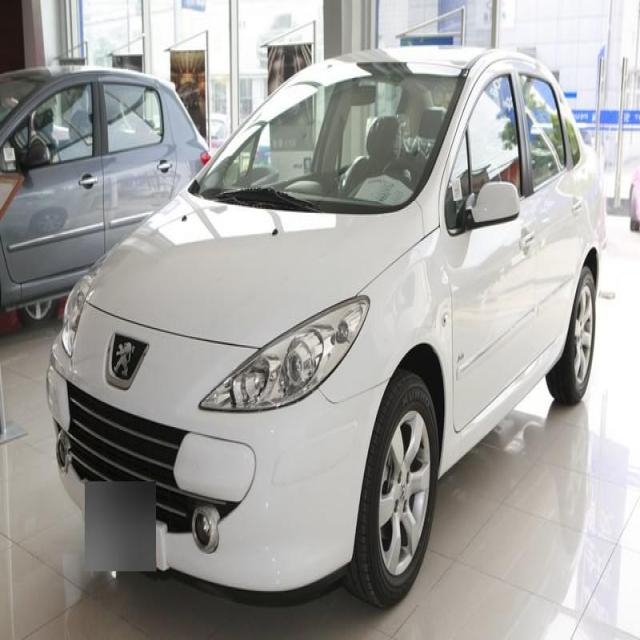front_bumper: (46, 312, 400, 591)
front_glass: (192, 62, 470, 216)
front_left_side_door: (438, 62, 539, 443)
front_left_side_light: (198, 292, 370, 415)
front_left_side_mirror: (471, 178, 520, 232)
front_right_side_light: (60, 264, 97, 357)
wheel: (354, 378, 438, 606), (557, 270, 597, 402)
